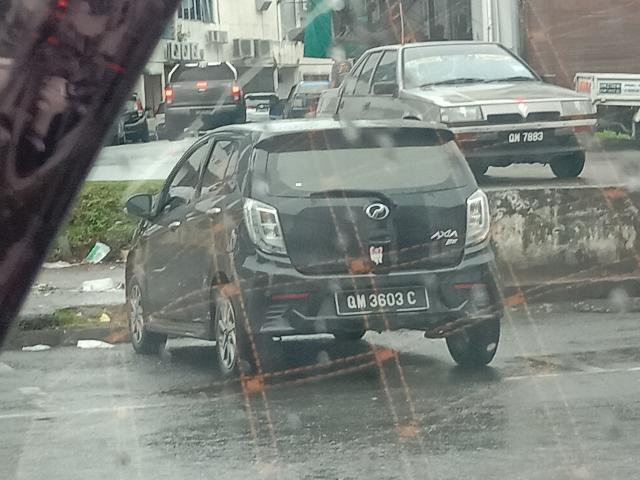License_Plate: (336, 287, 431, 318), (500, 129, 556, 146)
car: (125, 116, 509, 385), (312, 36, 592, 181)
